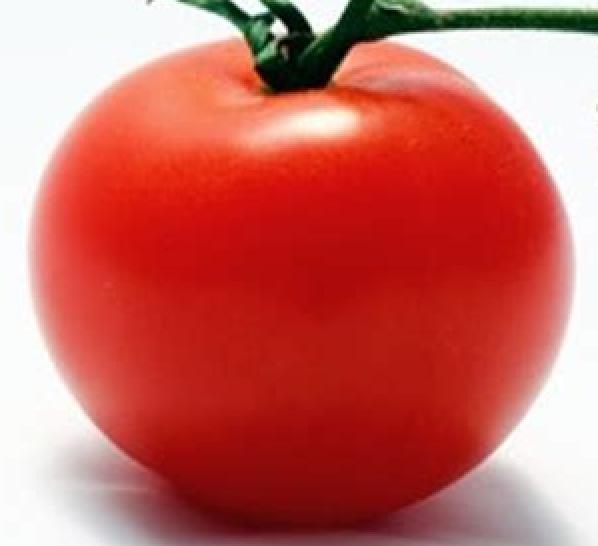tomato: (37, 36, 577, 530)
